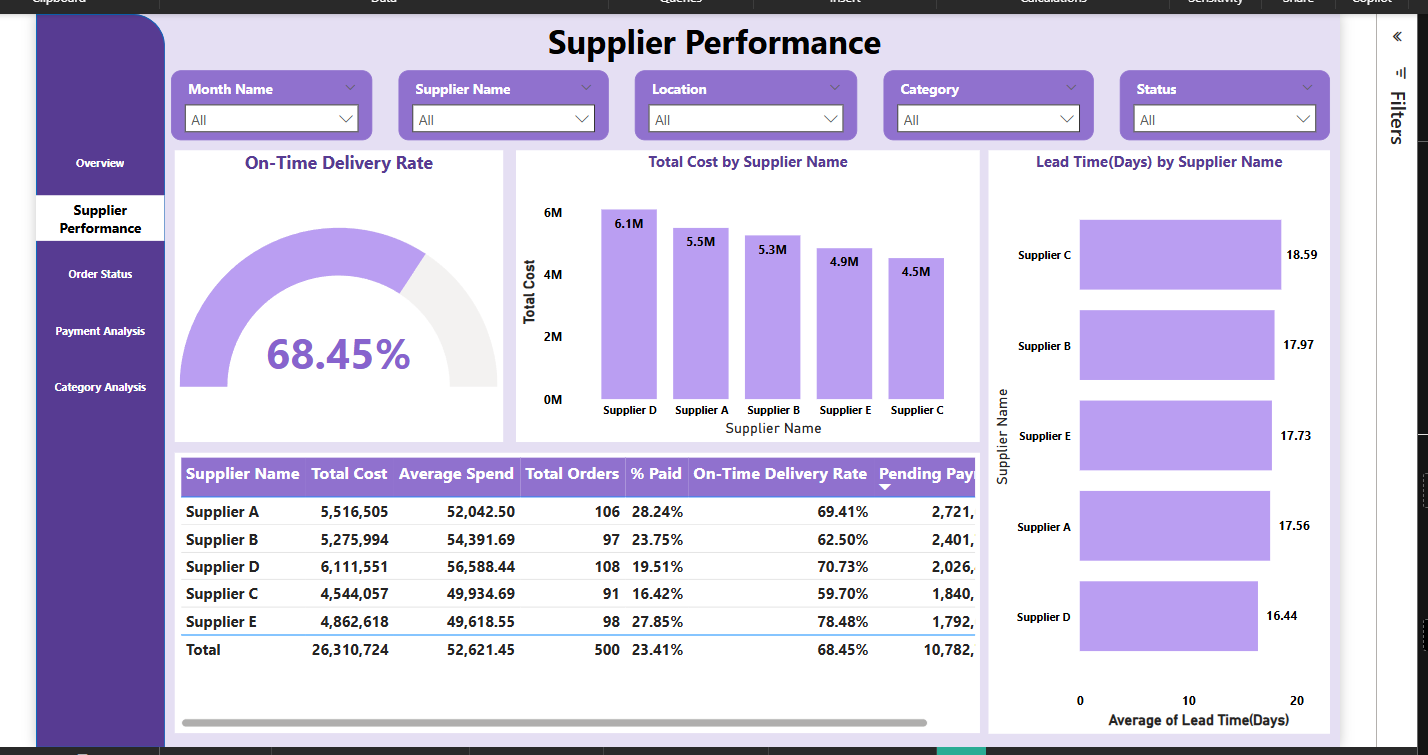

The dashboard page shown, as its layout file describes it:
{"tool":"powerbi","page":{"name":"Supplier Performance ","canvas":[1280,720],"ordinal":1},"visuals":[{"type":"textbox","box":[429.9,0,481.9,54.8],"z":0},{"type":"slicer","fields":{"Values":["Calendar Table.Month Name"]},"box":[132.7,55.5,197.9,68.8],"z":1000},{"type":"slicer","fields":{"Values":["Data.Supplier Name"]},"box":[356.2,55.5,206.3,68.8],"z":2000},{"type":"slicer","fields":{"Values":["Data.Location"]},"box":[588.1,55.5,218.4,68.8],"z":3000},{"type":"slicer","fields":{"Values":["Data.Status"]},"box":[1064.1,55.5,206.3,68.8],"z":4000},{"type":"slicer","fields":{"Values":["Data.Category"]},"box":[832.1,55.5,206.3,68.8],"z":5000},{"type":"clusteredColumnChart","fields":{"Category":["Data.Supplier Name"],"Y":["Measures Calculation.Total Spend"]},"box":[471.7,133.4,455.4,286.3],"z":6000},{"type":"shape","box":[0,0,126.7,720.2],"z":7000},{"type":"gauge","title":"On-Time Delivery Rate","fields":{"Y":["Measures Calculation.On-Time Delivery Rate"]},"box":[136.6,133.4,322.1,286.3],"z":8000},{"type":"clusteredBarChart","title":" Lead Time(Days) by Supplier Name","fields":{"Category":["Data.Supplier Name"],"Y":["Avg(Data.Lead Time(Days))"]},"box":[935.3,133.4,335.1,572.5],"z":9000},{"type":"tableEx","fields":{"Values":["Data.Supplier Name","Measures Calculation.Total Spend","Measures Calculation.Average Spend","Measures Calculation.Total Orders","Measures Calculation.% Paid","Measures Calculation.On-Time Delivery Rate","Measures Calculation.Pending Payments"]},"box":[136.6,431,790.5,274.9],"z":10000},{"type":"pageNavigator","box":[0,123.2,126.1,269.3],"z":11000}]}

Visuals, with their boxes on the page's 1280x720 design canvas (x1, y1, x2, y2). These are canvas units, not pixel positions in the 1428x755 screenshot, which may show the page scaled, cropped or inside an application window:
textbox: BBox(430, 0, 912, 55)
slicer - Calendar Table.Month Name: BBox(133, 56, 331, 124)
slicer - Data.Supplier Name: BBox(356, 56, 562, 124)
slicer - Data.Location: BBox(588, 56, 806, 124)
slicer - Data.Status: BBox(1064, 56, 1270, 124)
slicer - Data.Category: BBox(832, 56, 1038, 124)
clusteredColumnChart - Data.Supplier Name x Measures Calculation.Total Spend: BBox(472, 133, 927, 420)
shape: BBox(0, 0, 127, 720)
"On-Time Delivery Rate" gauge: BBox(137, 133, 459, 420)
" Lead Time(Days) by Supplier Name" clusteredBarChart: BBox(935, 133, 1270, 706)
tableEx - Data.Supplier Name x Measures Calculation.Total Spend: BBox(137, 431, 927, 706)
pageNavigator: BBox(0, 123, 126, 392)
